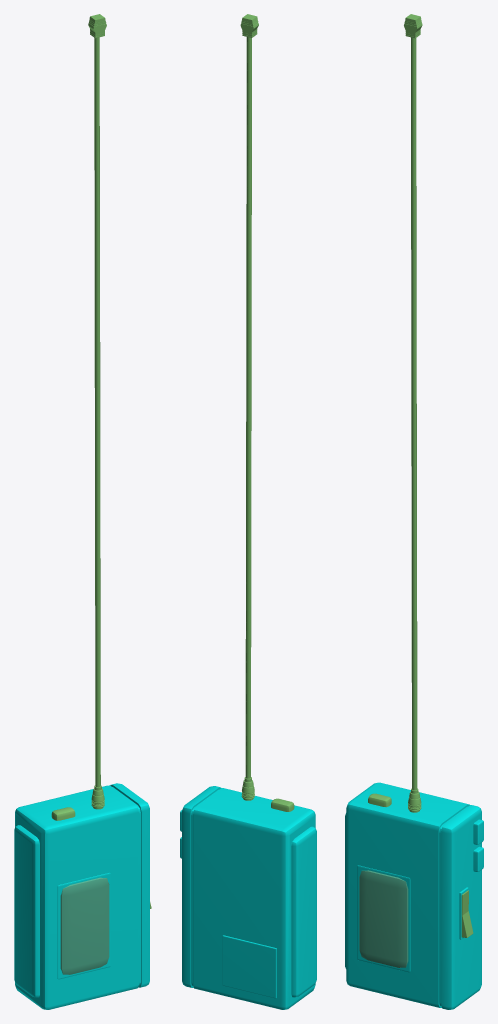
The model's file is Walkman_low.fbx.
The picture shows the model from 3 angles, left to right: view 1: azimuth 30°, elevation 25°; view 2: azimuth 150°, elevation 25°; view 3: azimuth 330°, elevation 25°; orthographic projection.
Visible parts, largest first — view 1: walkman, walkman_fil; view 2: walkman, walkman_fil; view 3: walkman, walkman_fil.
Boxes of the visible parts, x1,y1,x2,y2 form: walkman: [14, 14, 151, 1009]; walkman_fil: [94, 37, 100, 787]; walkman: [180, 14, 316, 1009]; walkman_fil: [245, 37, 251, 778]; walkman: [345, 14, 483, 1009]; walkman_fil: [411, 37, 417, 790].
Size of what is drawn, in the model's own units: 10.01 by 77.39 by 5.02.
